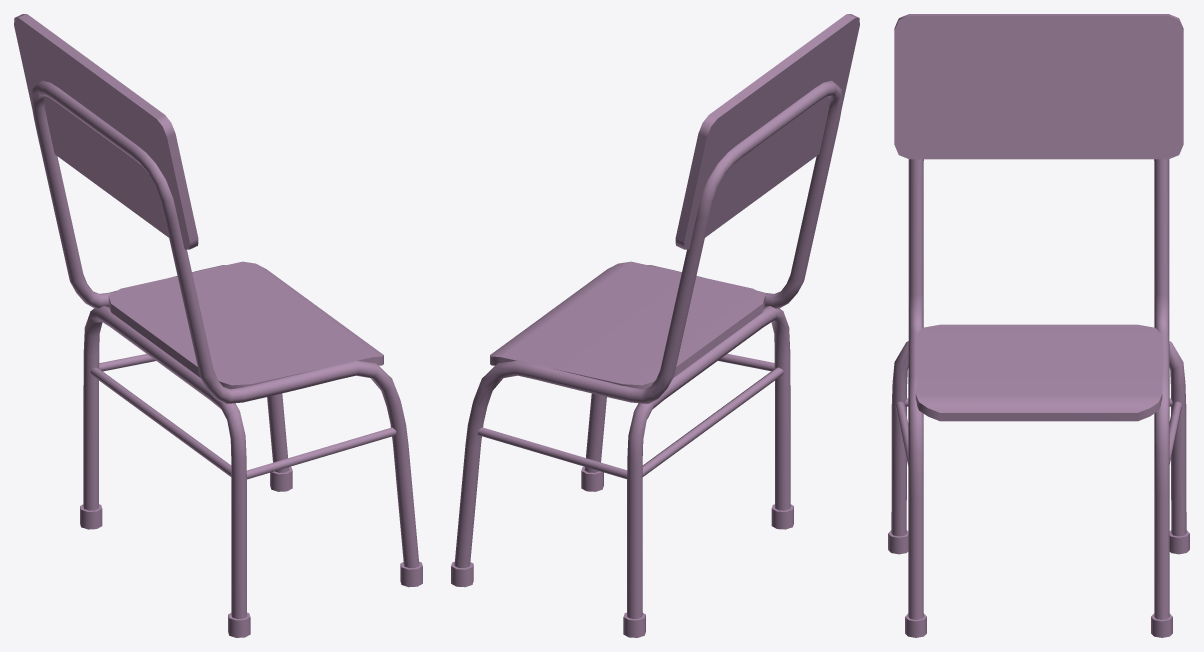
File: Silla 1.fbx
3 renders of one model, left to right at view 1: azimuth 30°, elevation 25°; view 2: azimuth 150°, elevation 25°; view 3: azimuth 270°, elevation 25°, orthographic. The views are drawn at different scales.
Visible parts, largest first — view 1: Silla_1; view 2: Silla_1; view 3: Silla_1.
Boxes of the visible parts, x1=… form: Silla_1: x1=14, y1=14, x2=422, y2=637; Silla_1: x1=451, y1=14, x2=859, y2=637; Silla_1: x1=888, y1=14, x2=1189, y2=637.
Bounding box in the file's own units: 0.6145 × 1.16 × 0.6323.
